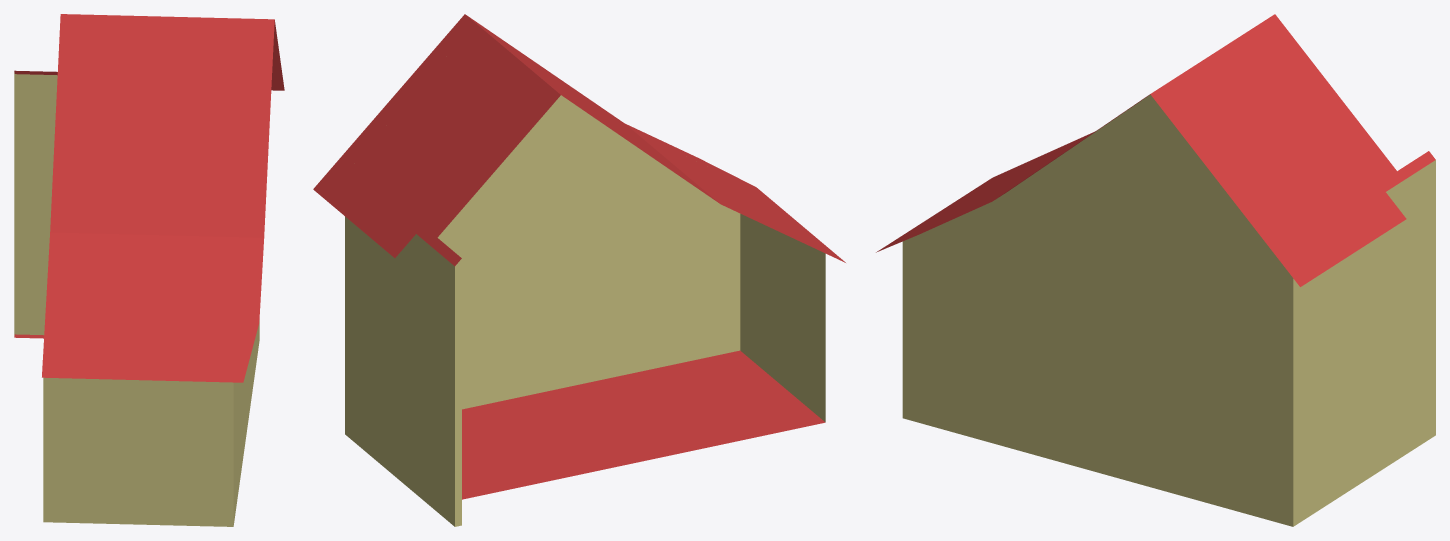
3 views of the same model, side by side, from view 1: azimuth 30°, elevation 25°; view 2: azimuth 150°, elevation 25°; view 3: azimuth 270°, elevation 25° (orthographic). The views are drawn at different scales.
Bounding box in the file's own units: 14.15 × 16.73 × 13.35.
